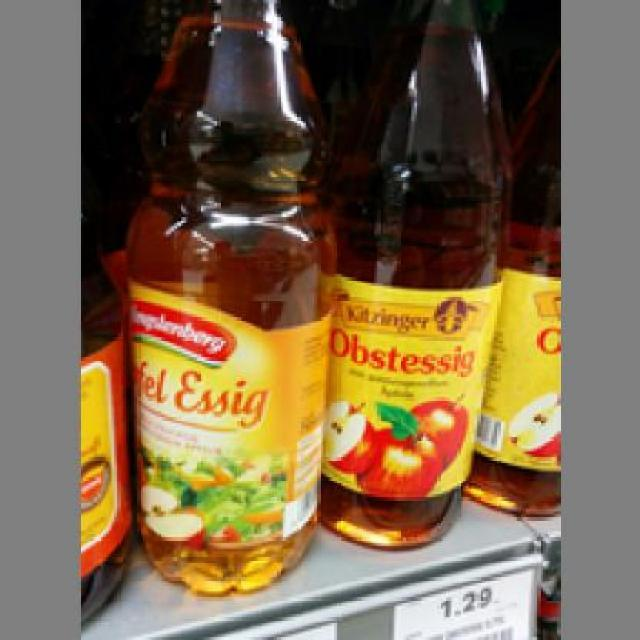Vinegar: (120, 0, 323, 589), (323, 0, 488, 549)
